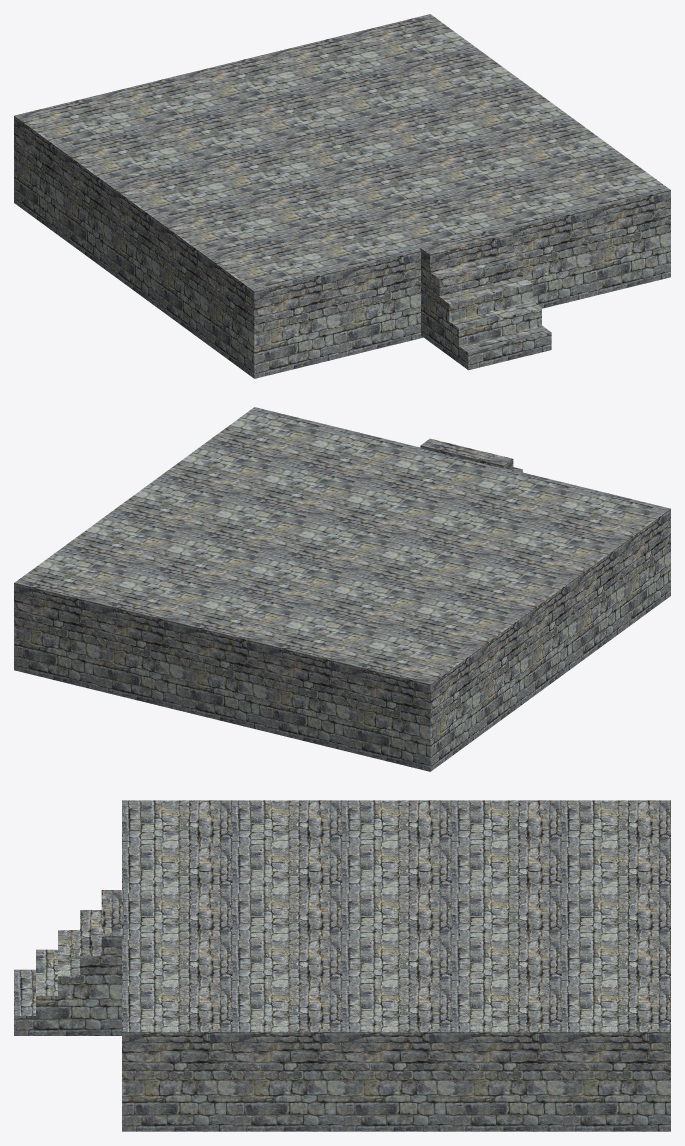
File: Foundation.FBX
3 renders of one model, top to bottom at view 1: azimuth 30°, elevation 25°; view 2: azimuth 150°, elevation 25°; view 3: azimuth 270°, elevation 25°, orthographic. The views are drawn at different scales.
Parts seen in each view (by area): view 1: Box001, Box002, Box003, Box004, Box005, Box006; view 2: Box001, Box006; view 3: Box001, Box002, Box003, Box004, Box005, Box006.
Boxes of the visible parts, x1,y1,x2,y2 form: Box001: (14,14,670,378); Box002: (421,318,551,370); Box003: (421,301,541,345); Box004: (421,276,532,321); Box005: (421,252,522,296); Box006: (420,227,513,272); Box001: (14,407,670,771); Box006: (420,438,513,469); Box001: (122,800,670,1131); Box002: (14,969,121,1035); Box003: (36,949,121,1015); Box004: (58,930,121,995); Box005: (80,910,121,976); Box006: (101,890,123,956).
Bounding box in the file's own units: 100 × 20.61 × 120.
Materials: 1 (1 with a texture image).
